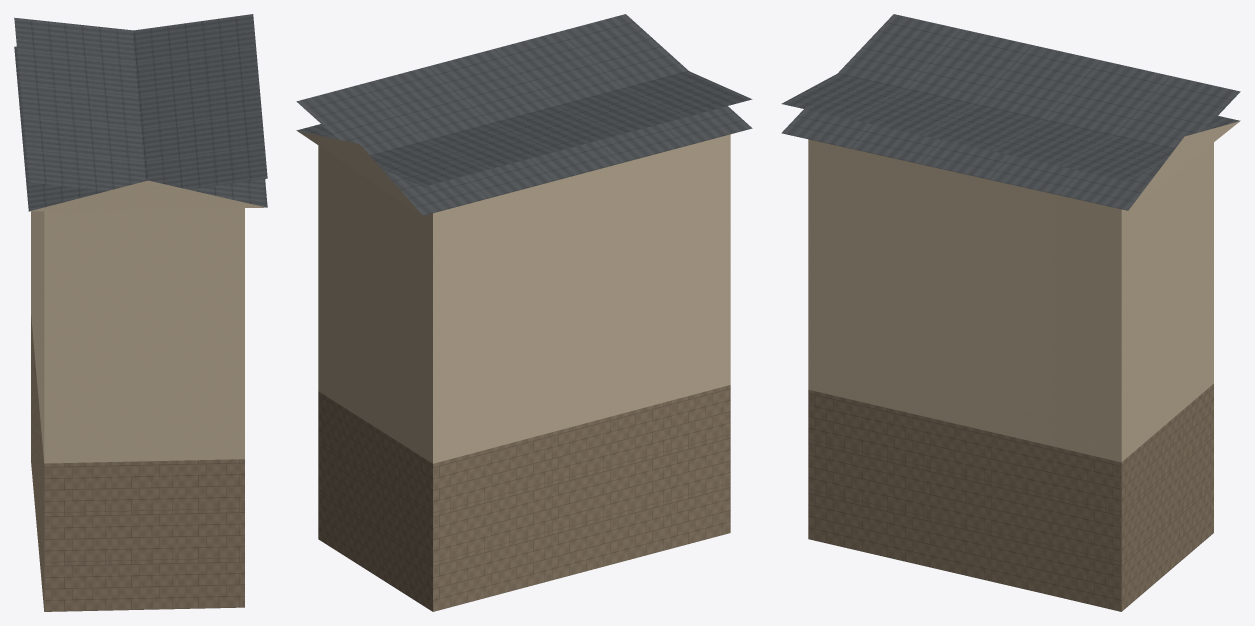
The model's file is bld_c6_35_517.gltf.
3 views of the same model, side by side, from view 1: azimuth 30°, elevation 25°; view 2: azimuth 150°, elevation 25°; view 3: azimuth 270°, elevation 25° (orthographic).
Visible parts, largest first — view 1: bld_c6_35_517; view 2: bld_c6_35_517; view 3: bld_c6_35_517.
Part boxes in pixels (left/top/right/bottom): bld_c6_35_517: left=14, top=14, right=267, bottom=611; bld_c6_35_517: left=296, top=14, right=752, bottom=611; bld_c6_35_517: left=781, top=14, right=1240, bottom=611.
Bounding box in the file's own units: 12.26 × 15 × 14.21.
4 materials, 4 textured.
